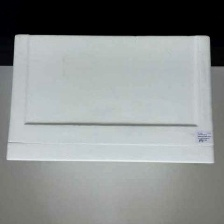foam_box: (1, 31, 217, 168)
